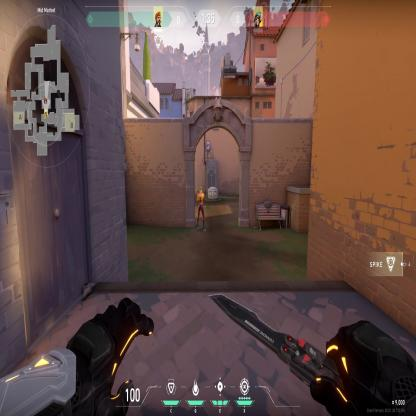enemy: (196, 184, 206, 233)
